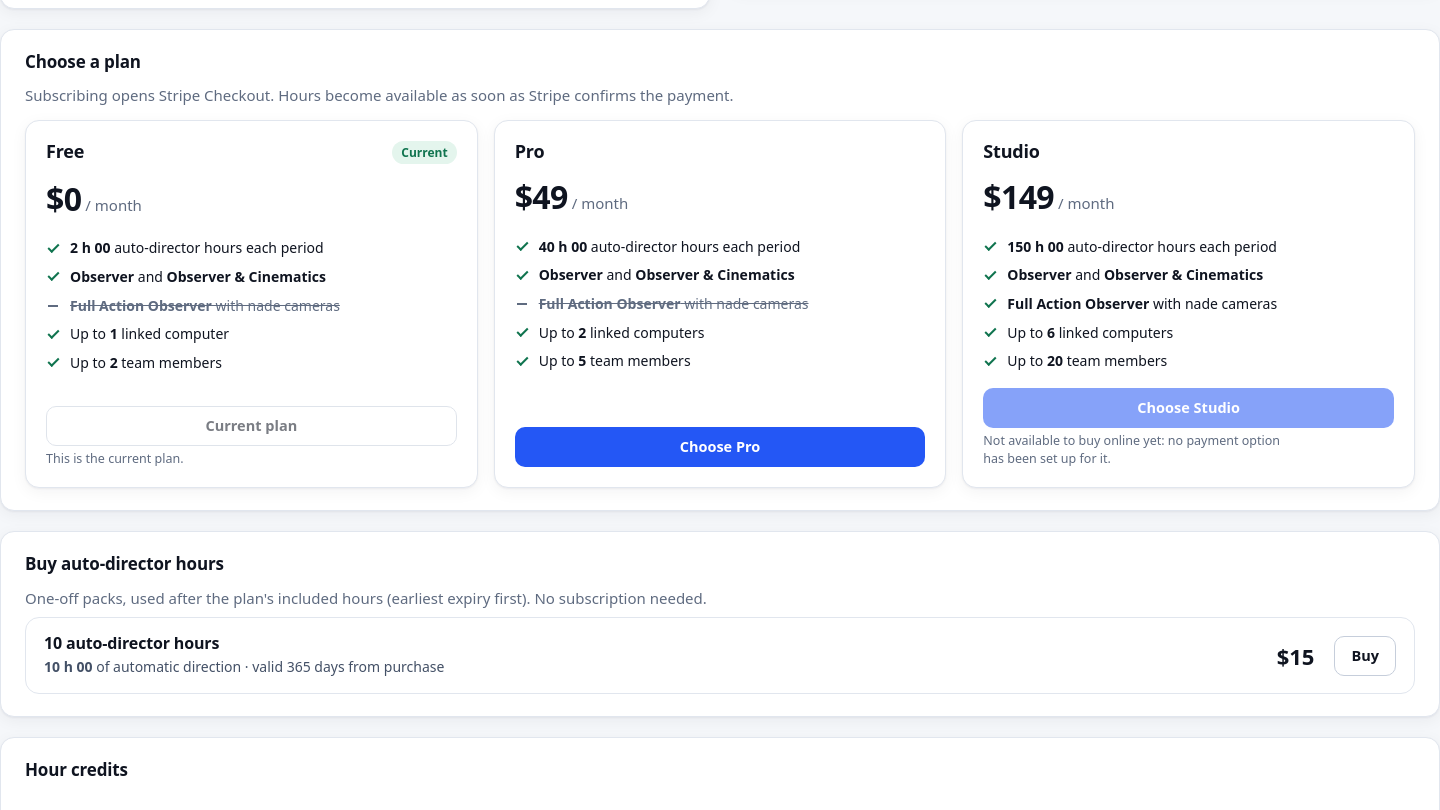
Test: billing role gating › shows API errors from checkout inline
(page scrolled)
Click the button "Choose Pro" at (720, 447), box [515,427,925,467]
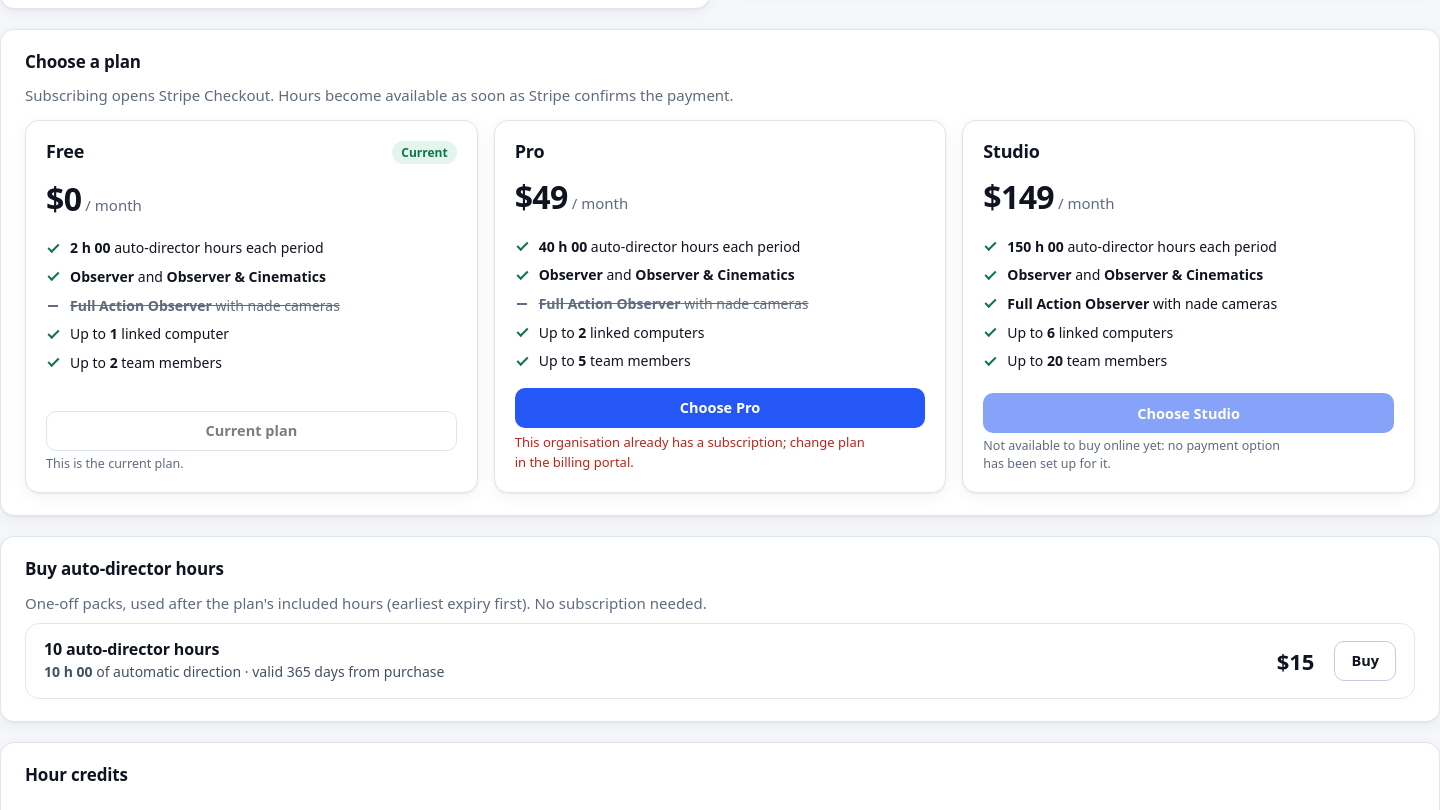
Check: the text "This organisation already has a subscription; change plan in the billing portal." is shown, box [515,432,872,472]
